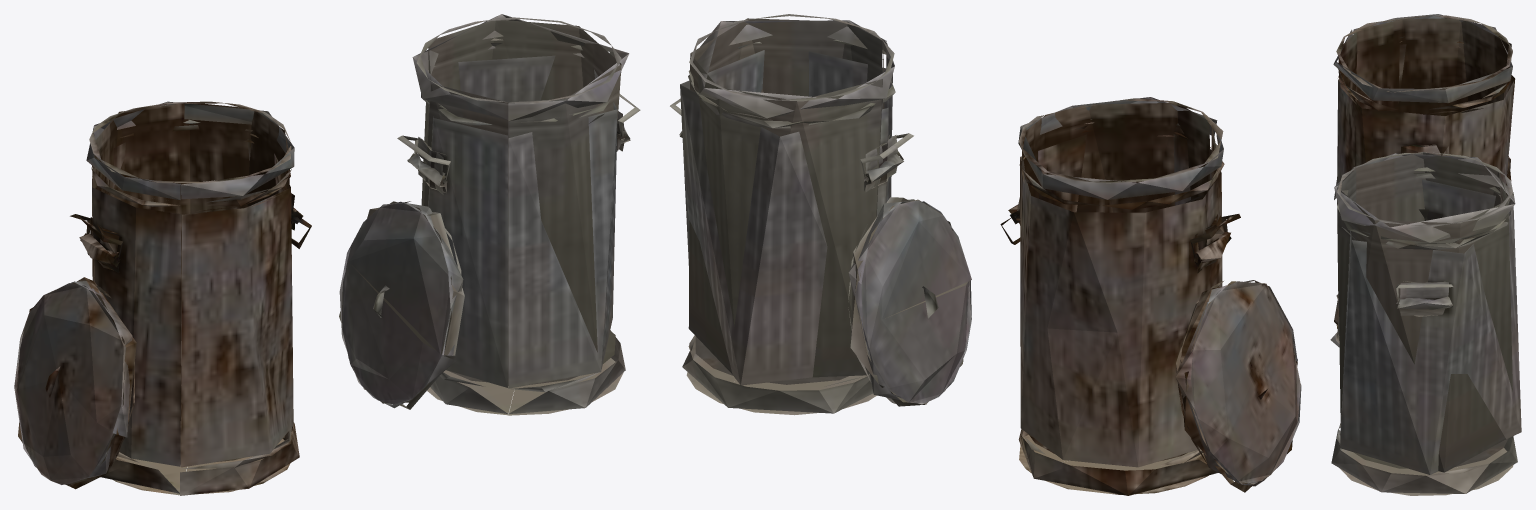
The model's file is metal_trash_can.glb.
3 renders of one model, left to right at view 1: azimuth 30°, elevation 25°; view 2: azimuth 150°, elevation 25°; view 3: azimuth 270°, elevation 25°, orthographic. The views are drawn at different scales.
Visible parts, largest first — view 1: metal_trash_can_rust, metal_trash_can, metal_trash_can_lid, metal_trash_can_rust_lid; view 2: metal_trash_can, metal_trash_can_rust, metal_trash_can_lid, metal_trash_can_rust_lid; view 3: metal_trash_can, metal_trash_can_rust, metal_trash_can_handle_right.
Boxes of the visible parts, x1=… form: metal_trash_can_rust: x1=79, y1=101, x2=303, y2=495; metal_trash_can: x1=407, y1=14, x2=630, y2=415; metal_trash_can_lid: x1=339, y1=201, x2=464, y2=409; metal_trash_can_rust_lid: x1=14, y1=277, x2=136, y2=489; metal_trash_can: x1=679, y1=14, x2=903, y2=415; metal_trash_can_rust: x1=1008, y1=97, x2=1231, y2=495; metal_trash_can_lid: x1=848, y1=197, x2=971, y2=406; metal_trash_can_rust_lid: x1=1175, y1=280, x2=1301, y2=492; metal_trash_can: x1=1331, y1=152, x2=1521, y2=495; metal_trash_can_rust: x1=1333, y1=14, x2=1515, y2=328; metal_trash_can_handle_right: x1=1396, y1=284, x2=1453, y2=304.
Size of the model in its own units: 1.77 by 0.9076 by 0.5848.
Materials: 3 (3 with a texture image).
